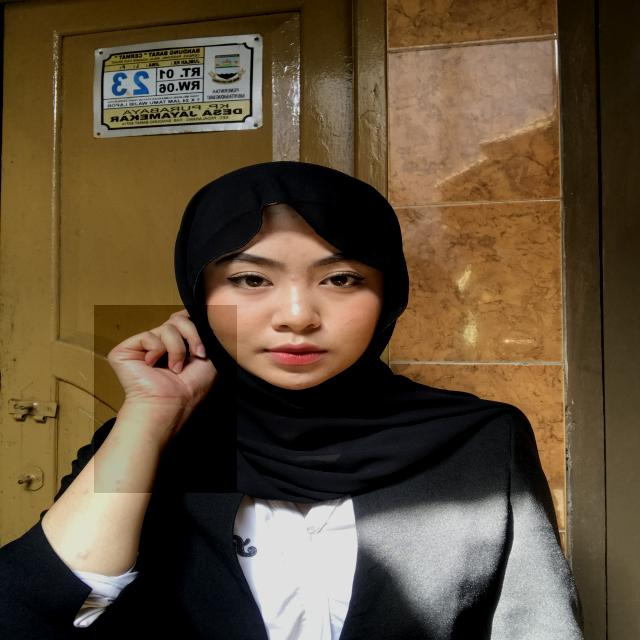ibu: (94, 305, 237, 493)
